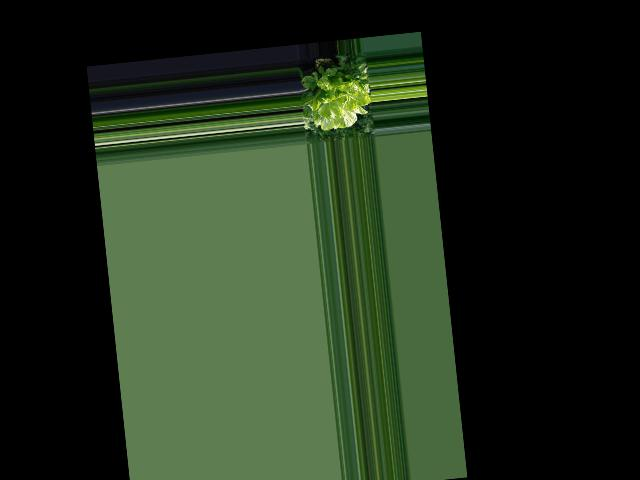lettuce: (300, 66, 366, 131)
